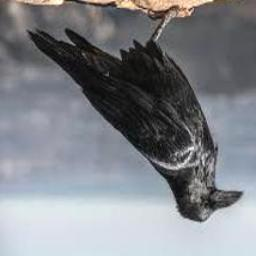Crow: (25, 6, 243, 223)
